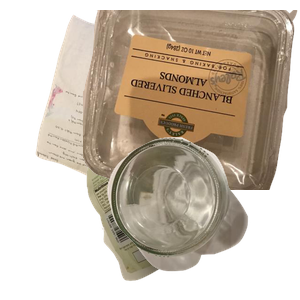glass: (105, 135, 300, 300)
paper: (33, 12, 214, 192)
plastic: (83, 10, 300, 190)
trash: (84, 126, 291, 300)
